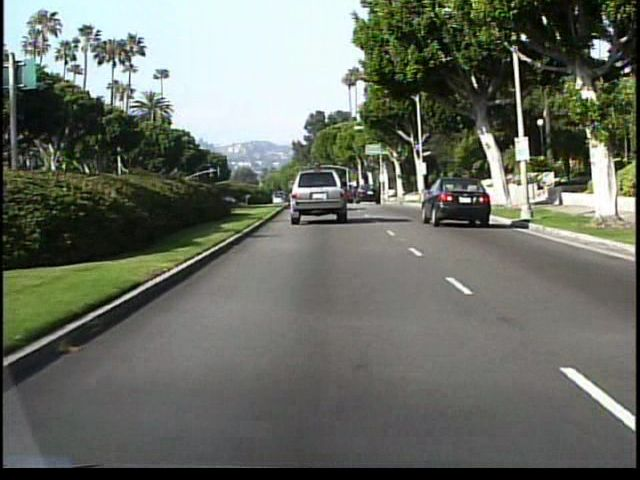car: (435, 171, 487, 227), (301, 175, 357, 223)
strada: (13, 224, 636, 453)
